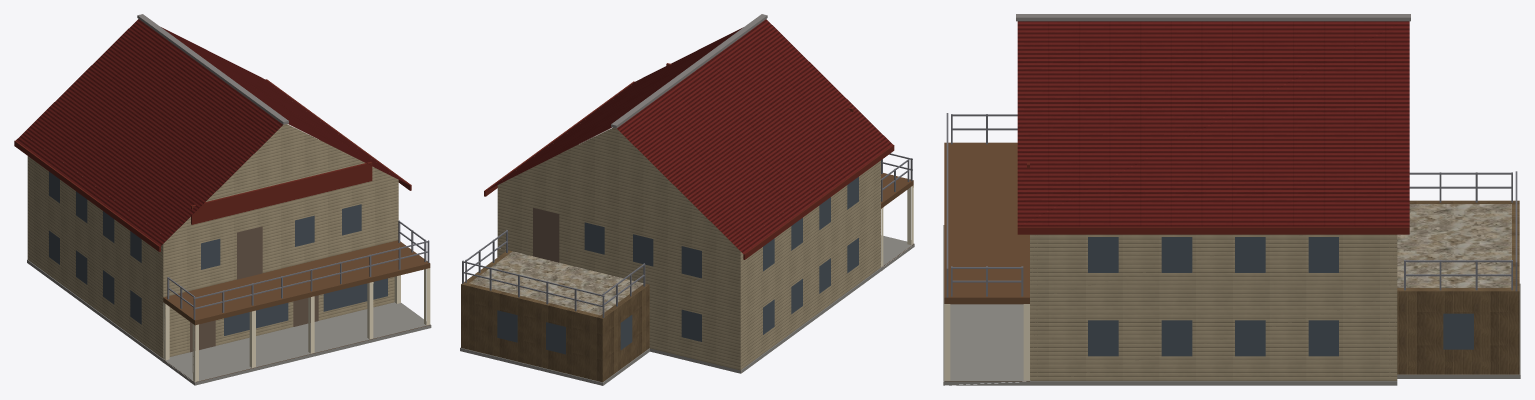
The model's file is rw-mercantile.zfix-v22.lod1.glb.
The picture shows the model from 3 angles, left to right: view 1: azimuth 30°, elevation 25°; view 2: azimuth 150°, elevation 25°; view 3: azimuth 270°, elevation 25°; orthographic projection. The views are drawn at different scales.
Visible parts, largest first — view 1: rw-mercantile; view 2: rw-mercantile; view 3: rw-mercantile.
Boxes of the visible parts, x1,y1,x2,y2 form: rw-mercantile: (14,14,431,385); rw-mercantile: (460,14,914,385); rw-mercantile: (943,14,1520,385).
Bounding box in the file's own units: 12.88 × 10.53 × 18.86.
5 materials, 4 textured.
